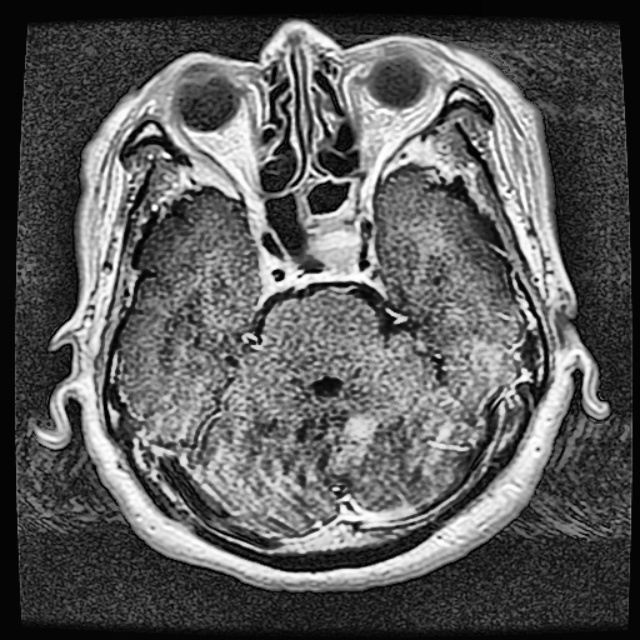Pituitary: (312, 230, 358, 273)
